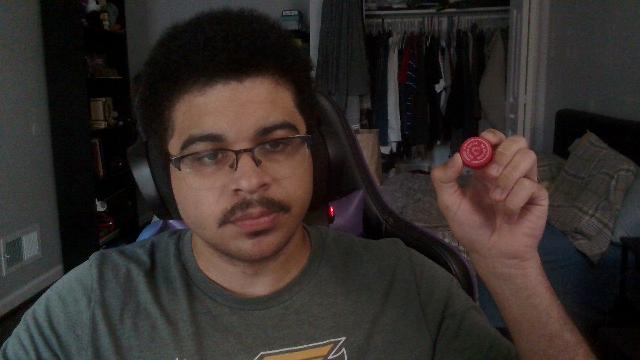cap: (460, 137, 492, 169)
